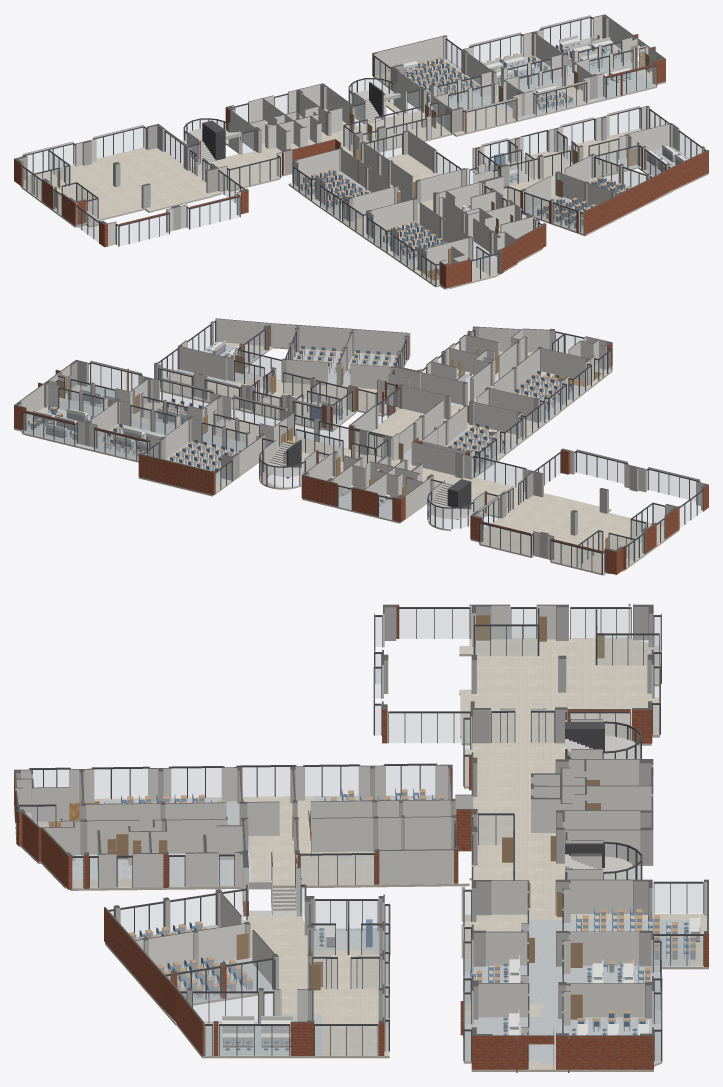
Rendered from floor-3.glb.
3 views of the same model, one above another, from view 1: azimuth 30°, elevation 25°; view 2: azimuth 150°, elevation 25°; view 3: azimuth 270°, elevation 25° (orthographic). The views are drawn at different scales.
Parts seen in each view (by area): view 1: P3_B_Walls, P3_A_Glass, P3_A_Walls, P3_A_Floor_Slab, P3_B_Glass, P3_A_Columns, P3_A_Glass_Mullions, P3_B_Floor_Slab, P3_B_Columns, P3_B_Glass_Mullions, P3_A_Floor_Zones, P3_B_Floor_Zones (+12 smaller); view 2: P3_B_Walls, P3_A_Glass, P3_A_Walls, P3_A_Floor_Slab, P3_B_Glass, P3_A_Columns, P3_B_Floor_Slab, P3_A_Glass_Mullions, P3_B_Columns, P3_B_Glass_Mullions, P3_A_Floor_Zones, P3_B_Floor_Zones (+12 smaller); view 3: P3_B_Walls, P3_A_Walls, P3_A_Floor_Slab, P3_B_Glass, P3_A_Glass, P3_B_Floor_Slab, P3_A_Columns, P3_A_Floor_Zones, P3_B_Columns, P3_B_Floor_Zones, P3_B_Glass_Mullions, P3_A_Glass_Mullions (+13 smaller).
Boxes of the visible parts, x1,y1,x2,y2 form: P3_B_Walls: (294,106,708,287); P3_A_Glass: (23,18,656,245); P3_A_Walls: (20,15,658,246); P3_A_Floor_Slab: (21,37,665,227); P3_B_Glass: (294,109,701,284); P3_A_Columns: (14,14,665,247); P3_A_Glass_Mullions: (22,18,657,246); P3_B_Floor_Slab: (288,128,708,289); P3_B_Columns: (292,105,705,288); P3_B_Glass_Mullions: (293,107,704,285); P3_A_Floor_Zones: (300,38,655,119); P3_B_Floor_Zones: (289,146,689,280); P3_B_Walls: (156,318,610,473); P3_A_Glass: (23,364,702,573); P3_A_Walls: (17,360,704,569); P3_A_Floor_Slab: (14,384,679,575); P3_B_Glass: (159,323,611,472); P3_A_Columns: (14,359,708,574); P3_B_Floor_Slab: (160,342,612,478); P3_A_Glass_Mullions: (22,363,700,574); P3_B_Columns: (154,321,612,455); P3_B_Glass_Mullions: (158,321,612,473); P3_A_Floor_Zones: (21,384,392,519); P3_B_Floor_Zones: (177,341,601,476); P3_B_Walls: (14,764,453,1055); P3_A_Walls: (374,604,708,1072); P3_A_Floor_Slab: (459,638,708,1071); P3_B_Glass: (20,766,434,1055); P3_A_Glass: (375,609,702,1060); P3_B_Floor_Slab: (14,795,469,1058); P3_A_Columns: (382,604,653,1069); P3_A_Floor_Zones: (464,920,690,1064); P3_B_Columns: (14,764,458,1055); P3_B_Floor_Zones: (48,795,447,1055); P3_B_Glass_Mullions: (15,763,456,1055); P3_A_Glass_Mullions: (373,607,703,1068).
Bounding box in the file's own units: 77.78 × 5.43 × 52.48.
Materials: 19 (5 with a texture image).
